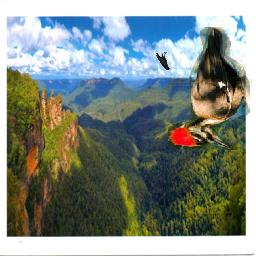Crow: (156, 52, 171, 71)
Woodpecker: (168, 28, 252, 151)
